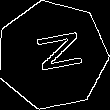N_W: (23, 31, 82, 80)
